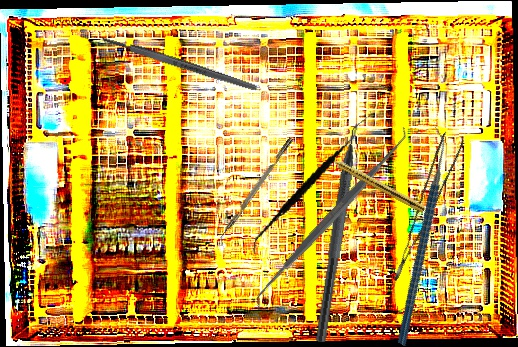Chopper: (327, 125, 511, 347), (314, 108, 375, 345), (214, 136, 299, 248)
Handpiece: (325, 152, 427, 214)
Scalpel Handle: (100, 34, 259, 93)
Spatula Surgical: (242, 125, 420, 312), (252, 110, 359, 268)
Tissue Forceps: (370, 130, 472, 282)
